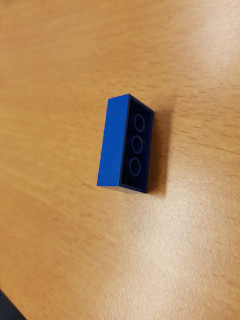2x4 blue: (93, 92, 158, 197)
